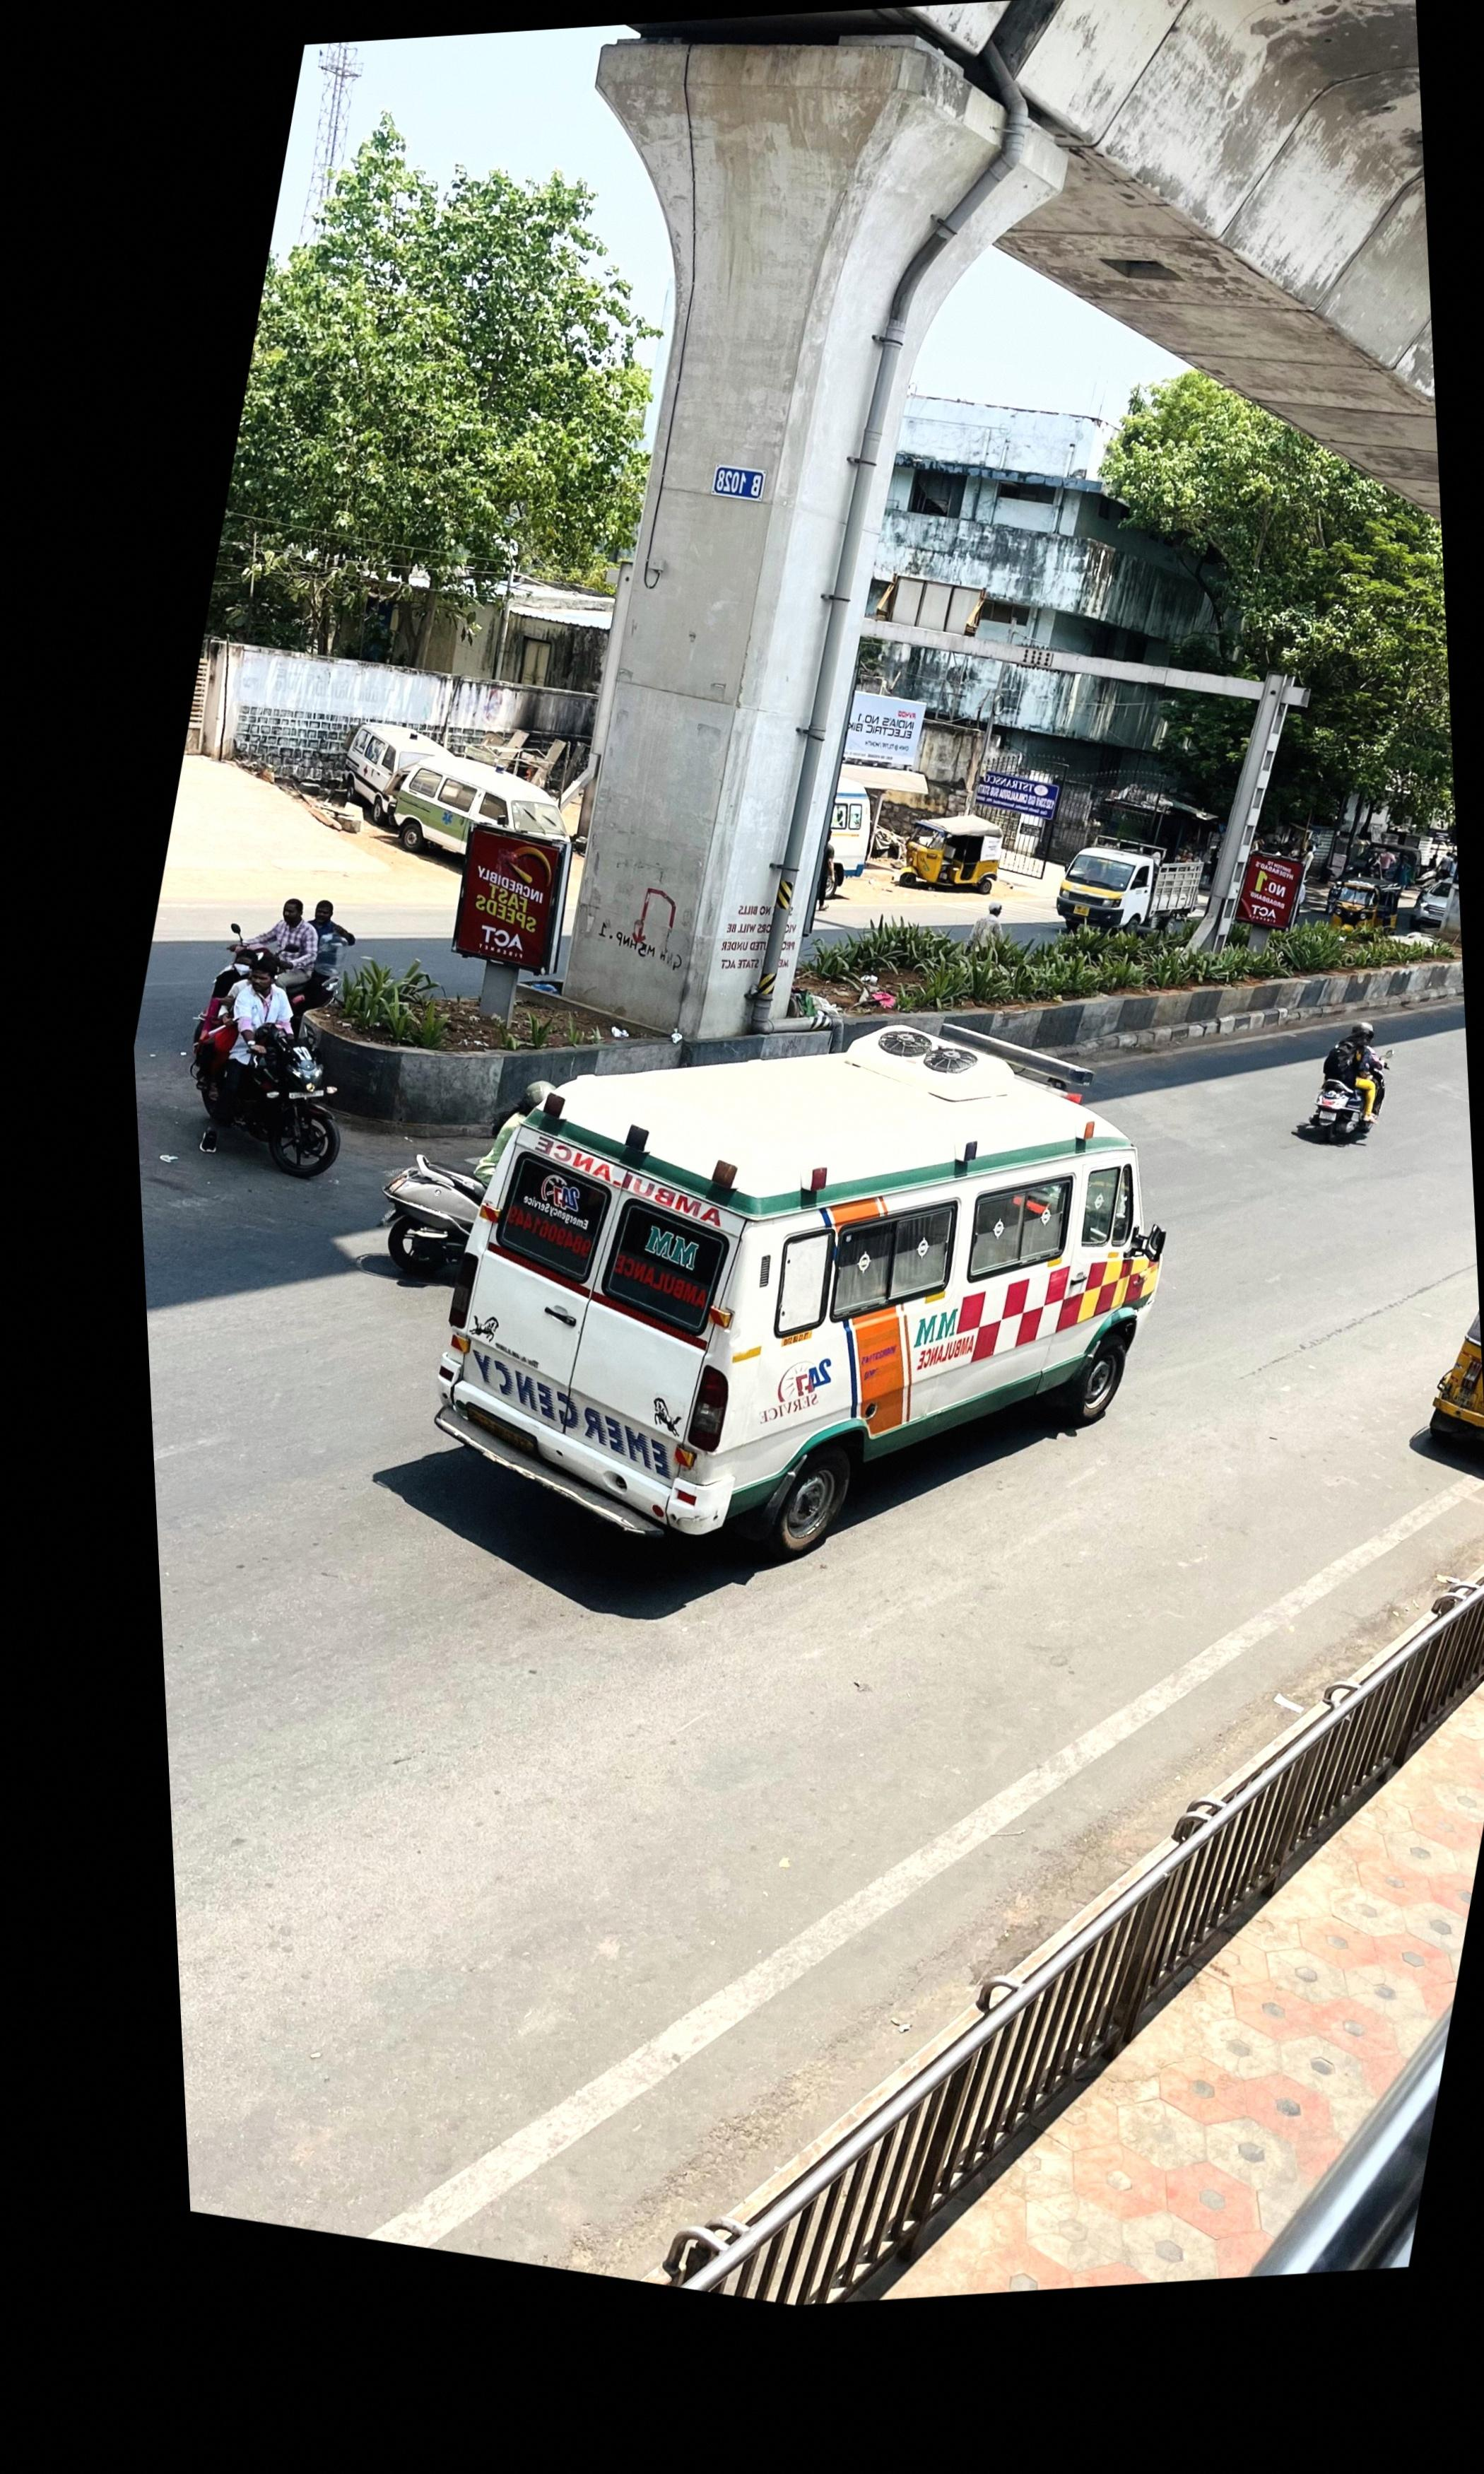ambulance: (438, 1034, 1166, 1559)
